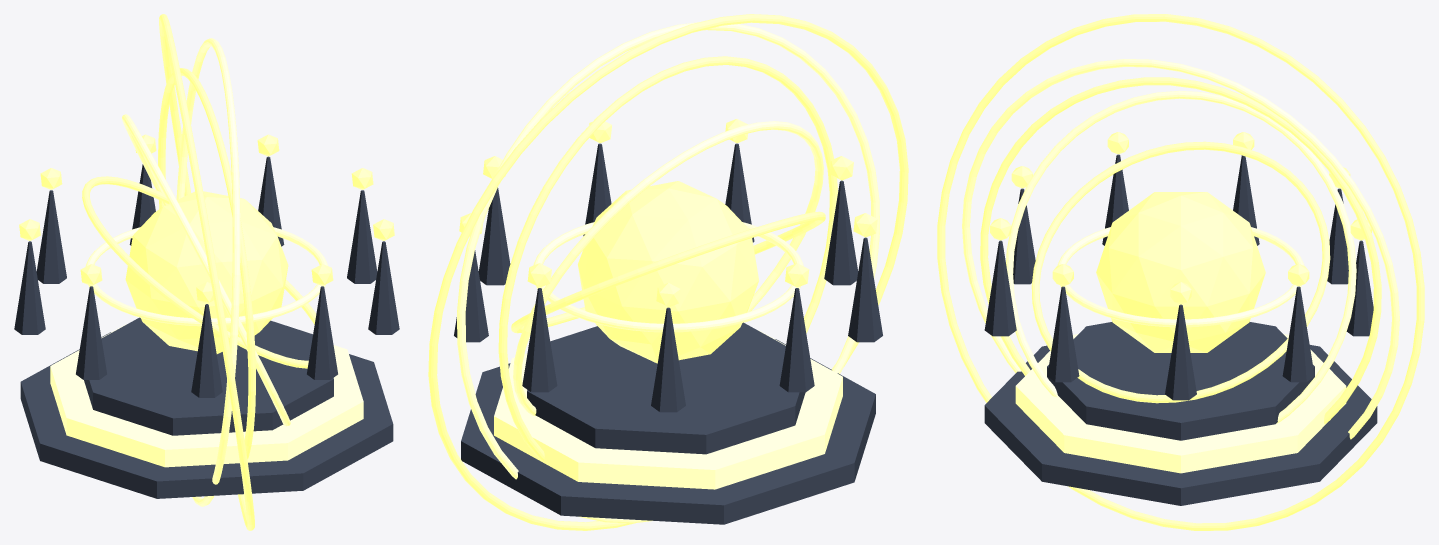
Rendered from gpu-blender-v10.glb.
3 views of the same model, side by side, from view 1: azimuth 30°, elevation 25°; view 2: azimuth 150°, elevation 25°; view 3: azimuth 270°, elevation 25° (orthographic). The views are drawn at different scales.
Parts seen in each view (by area): view 1: Cylinder.002, Cylinder, SovereignCore_zoth-swarm-multiplexer, Cylinder.001, Torus.005, Torus.004, Torus.003, Torus.001, Torus.002, Torus, Cone.006, Cone.004 (+7 smaller); view 2: Cylinder.002, SovereignCore_zoth-swarm-multiplexer, Cylinder, Cylinder.001, Torus.005, Torus.004, Torus.003, Torus.002, Torus.001, Torus, Cone.003, Cone.005 (+7 smaller); view 3: SovereignCore_zoth-swarm-multiplexer, Cylinder.002, Cylinder, Cylinder.001, Torus.005, Torus.004, Torus.003, Torus.002, Torus.001, Torus, Cone, Cone.001 (+7 smaller).
Part boxes in pixels (box(x1,y1,x2,y2)): Cylinder.002: box(84, 317, 333, 435); Cylinder: box(20, 332, 393, 498); SovereignCore_zoth-swarm-multiplexer: box(125, 191, 288, 353); Cylinder.001: box(50, 324, 363, 467); Torus.005: box(159, 14, 254, 530); Torus.004: box(176, 38, 240, 506); Torus.003: box(158, 68, 255, 459); Torus.001: box(82, 176, 316, 368); Torus.002: box(122, 114, 290, 426); Torus: box(85, 227, 327, 326); Cone.006: box(191, 304, 222, 397); Cone.004: box(14, 241, 45, 334); Cylinder.002: box(527, 322, 805, 454); SovereignCore_zoth-swarm-multiplexer: box(578, 181, 758, 363); Cylinder: box(461, 339, 875, 524); Cylinder.001: box(494, 330, 842, 489); Torus.005: box(428, 14, 908, 530); Torus.004: box(457, 22, 879, 523); Torus.003: box(498, 56, 838, 461); Torus.002: box(513, 121, 823, 415); Torus.001: box(511, 211, 825, 333); Torus: box(533, 222, 803, 332); Cone.003: box(651, 307, 685, 412); Cone.005: box(848, 237, 882, 342); SovereignCore_zoth-swarm-multiplexer: box(1096, 192, 1265, 352); Cylinder.002: box(1047, 322, 1314, 440); Cylinder: box(984, 345, 1377, 505); Cylinder.001: box(1015, 334, 1346, 473); Torus.005: box(937, 14, 1424, 530); Torus.004: box(962, 59, 1399, 439); Torus.003: box(980, 77, 1381, 423); Torus.002: box(1006, 90, 1356, 423); Torus.001: box(1031, 141, 1330, 403); Torus: box(1057, 227, 1304, 327); Cone: box(1165, 304, 1196, 400); Cone.001: box(1282, 286, 1314, 382).
Size of the model in its own units: 4.41 by 5.93 by 5.46.
